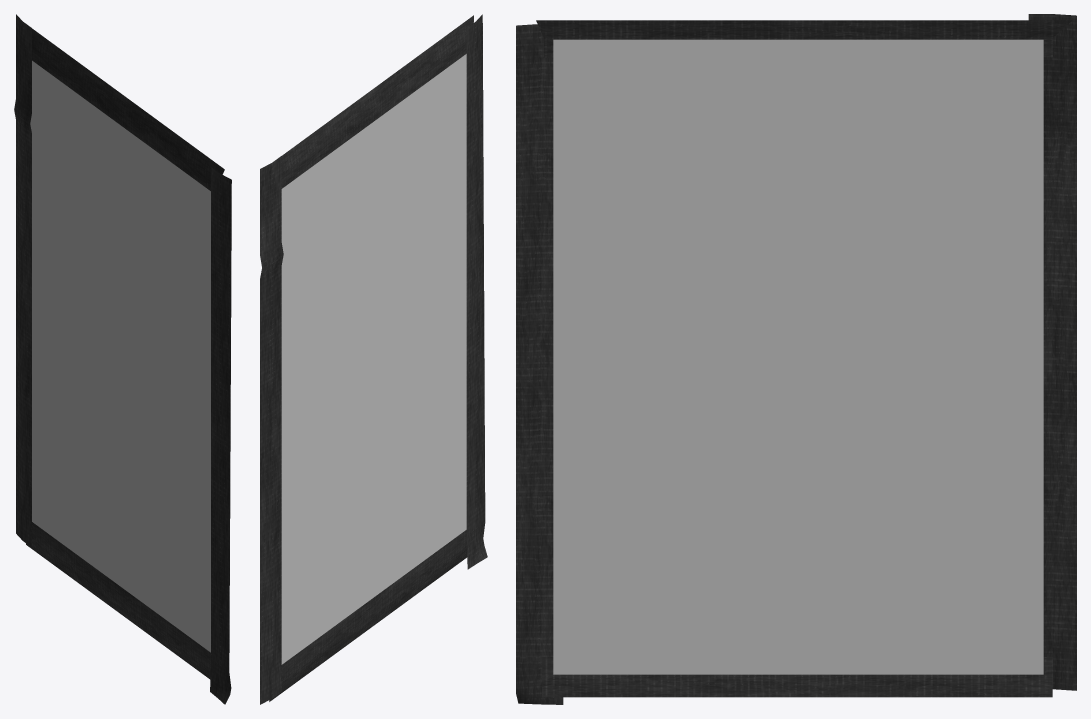
The model's file is SM_PosterTaped_01.fbx.
3 views of the same model, side by side, from view 1: azimuth 30°, elevation 25°; view 2: azimuth 150°, elevation 25°; view 3: azimuth 270°, elevation 25° (orthographic). The views are drawn at different scales.
Parts seen in each view (by area): view 1: SM_PosterTaped_01_LOD0; view 2: SM_PosterTaped_01_LOD0; view 3: SM_PosterTaped_01_LOD0.
Boxes of the visible parts, box(x1,y1,x2,y2) form: SM_PosterTaped_01_LOD0: box(14, 14, 231, 704); SM_PosterTaped_01_LOD0: box(260, 14, 487, 704); SM_PosterTaped_01_LOD0: box(516, 14, 1076, 704).
Bounding box in the file's own units: 0.4234 × 24.02 × 32.69.
2 materials, 2 textured.
